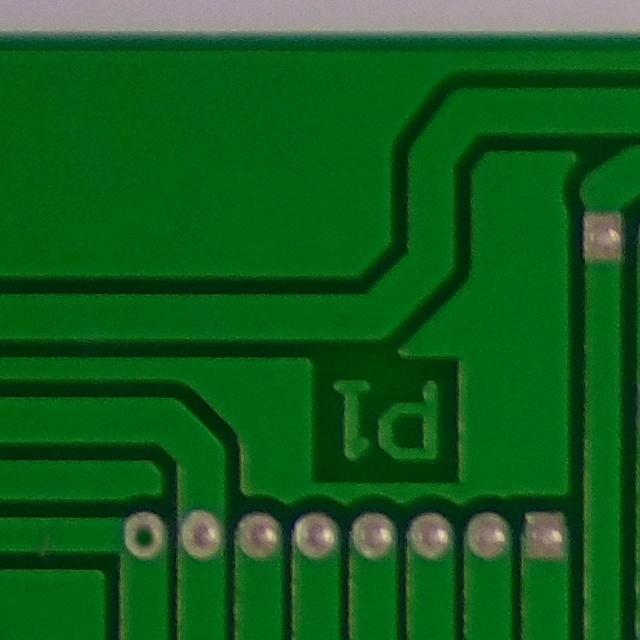missing_hole: (122, 504, 175, 566)
